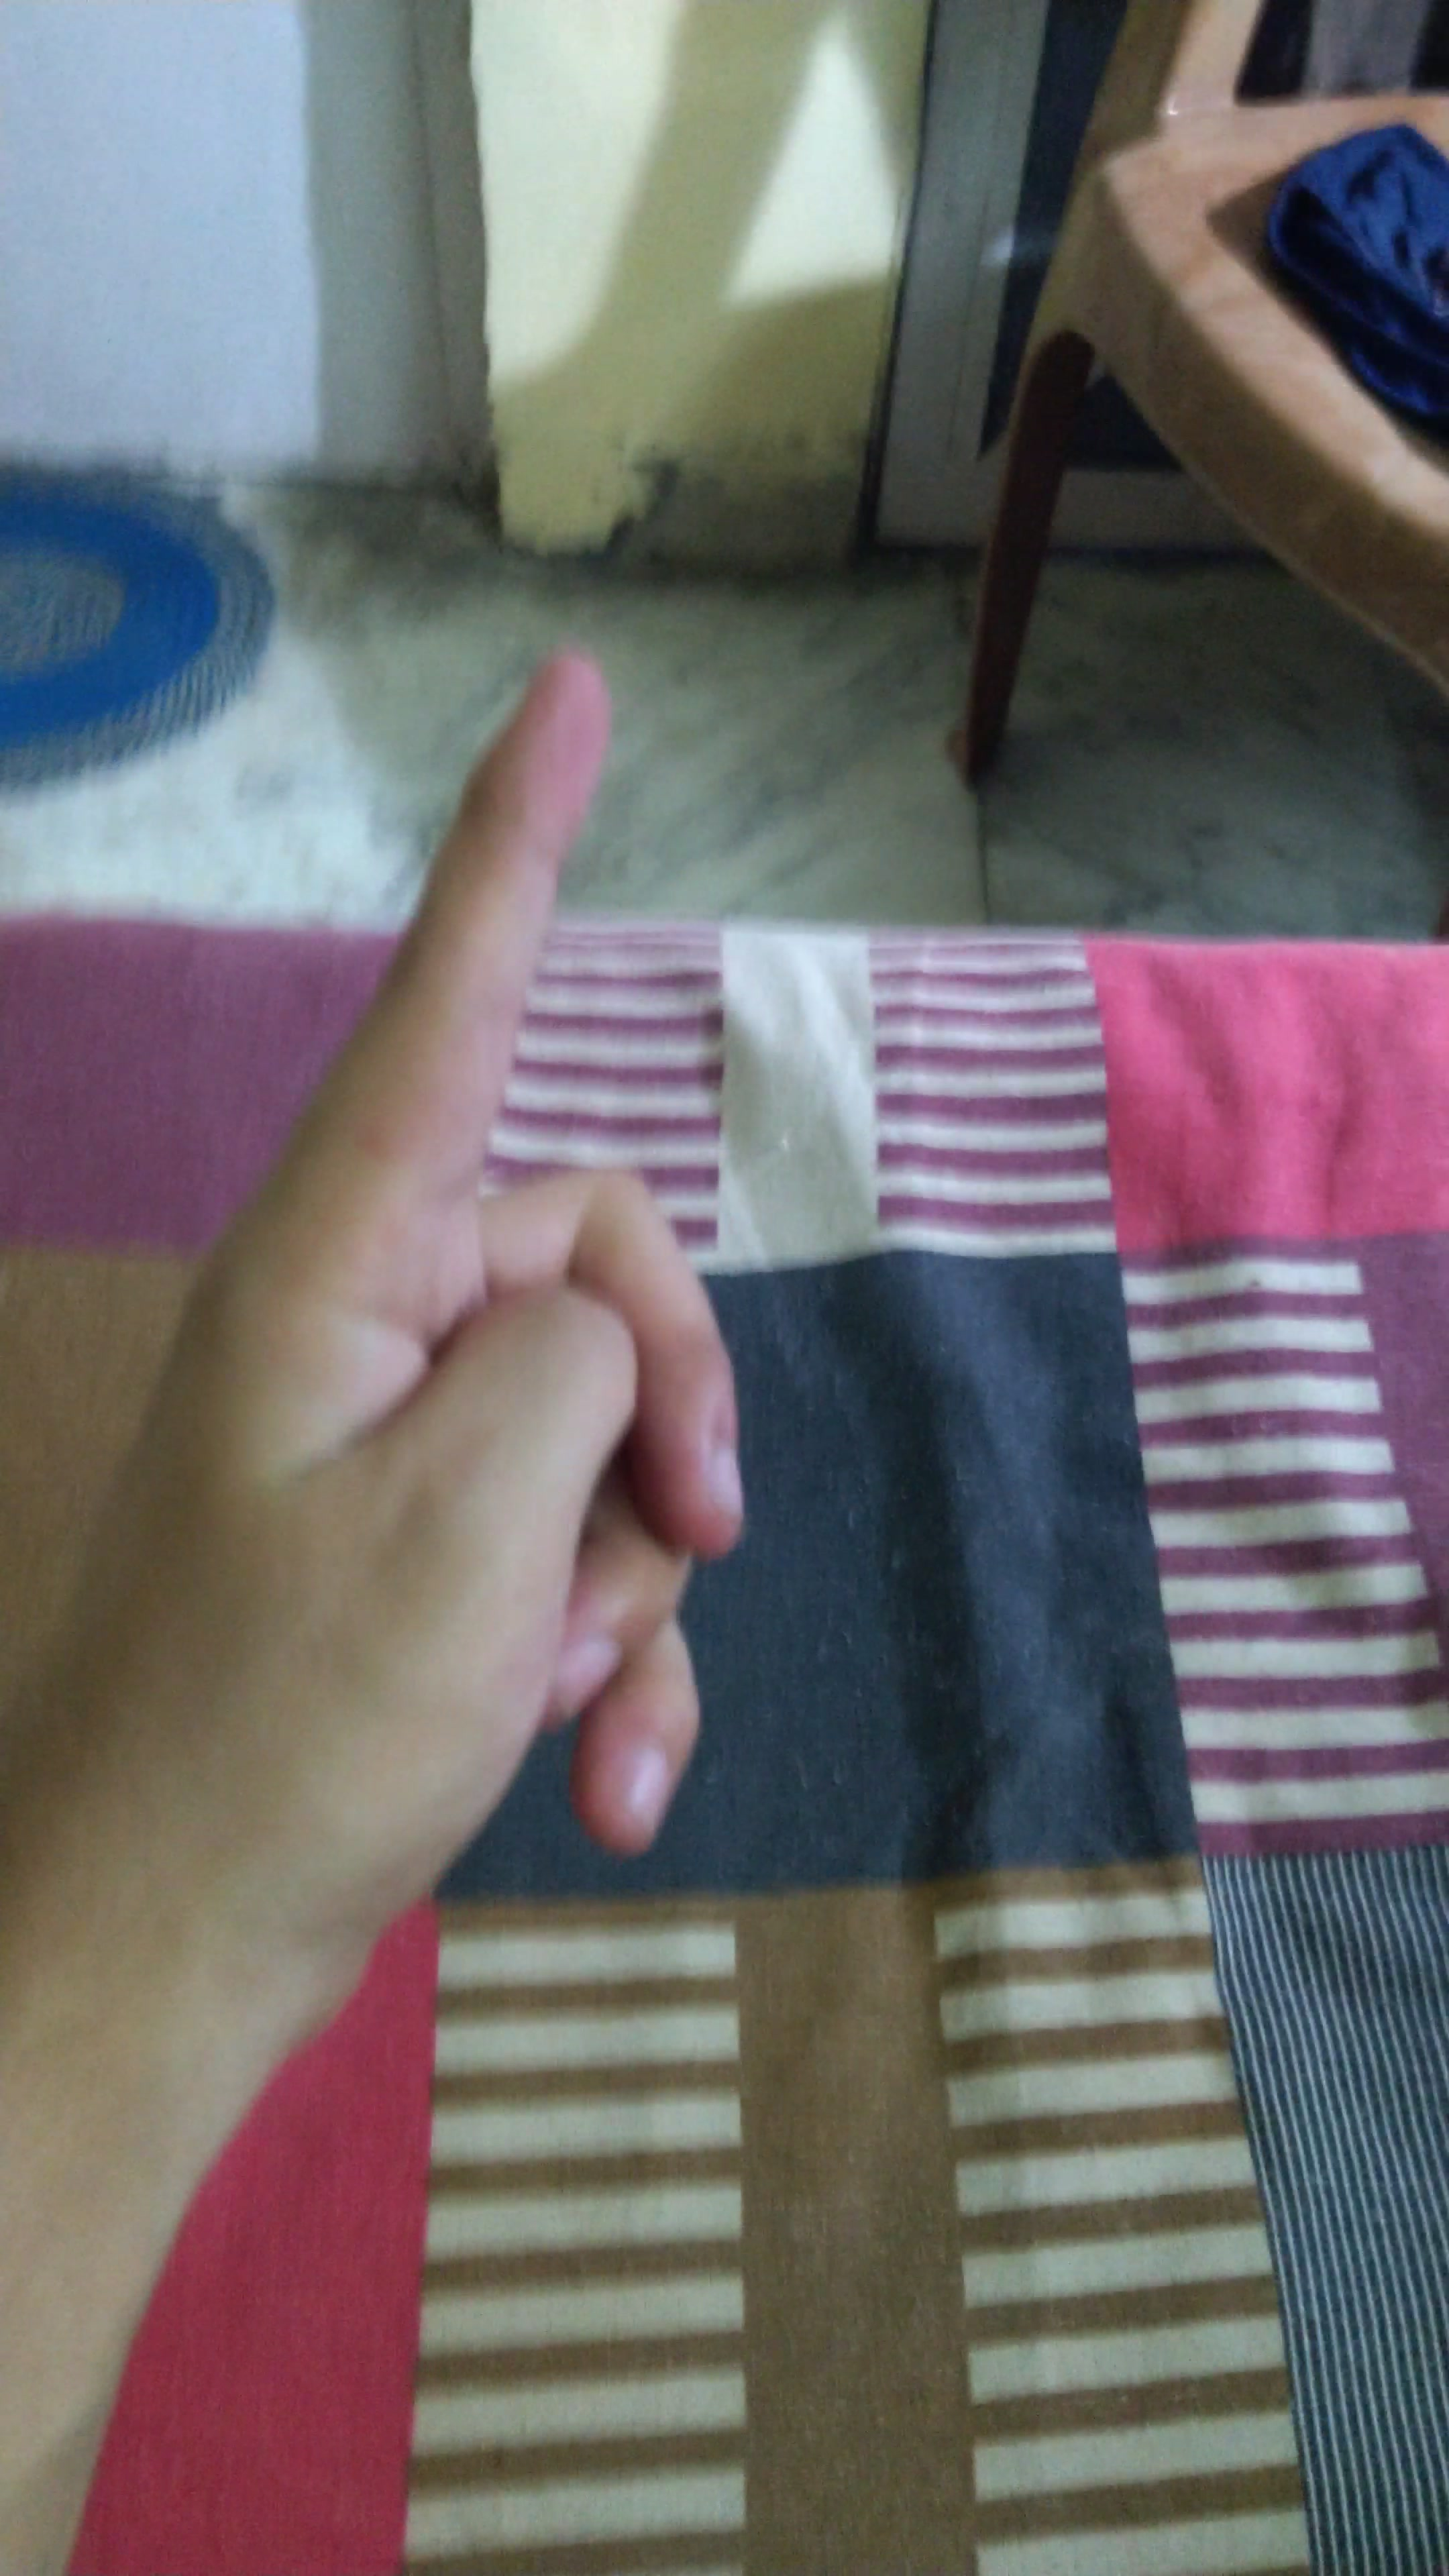hand: (117, 600, 801, 2006)
